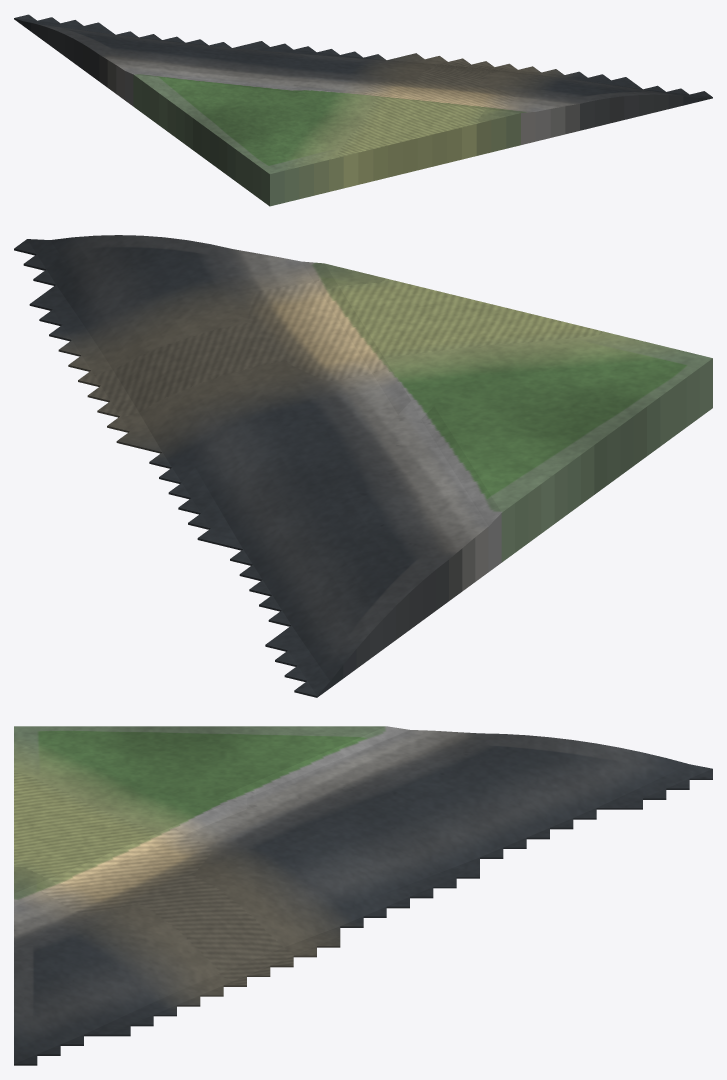
Rendered from strait_ground.fbx.
3 views of the same model, one above another, from view 1: azimuth 30°, elevation 25°; view 2: azimuth 150°, elevation 25°; view 3: azimuth 270°, elevation 25° (orthographic). The views are drawn at different scales.
Visible parts, largest first — view 1: strait_ground; view 2: strait_ground; view 3: strait_ground.
Part boxes in pixels (bbox=[...]): strait_ground: bbox=[14, 14, 712, 206]; strait_ground: bbox=[14, 235, 712, 697]; strait_ground: bbox=[14, 726, 712, 1065].
Size of the model in its own units: 6000 by 417 by 6000.
